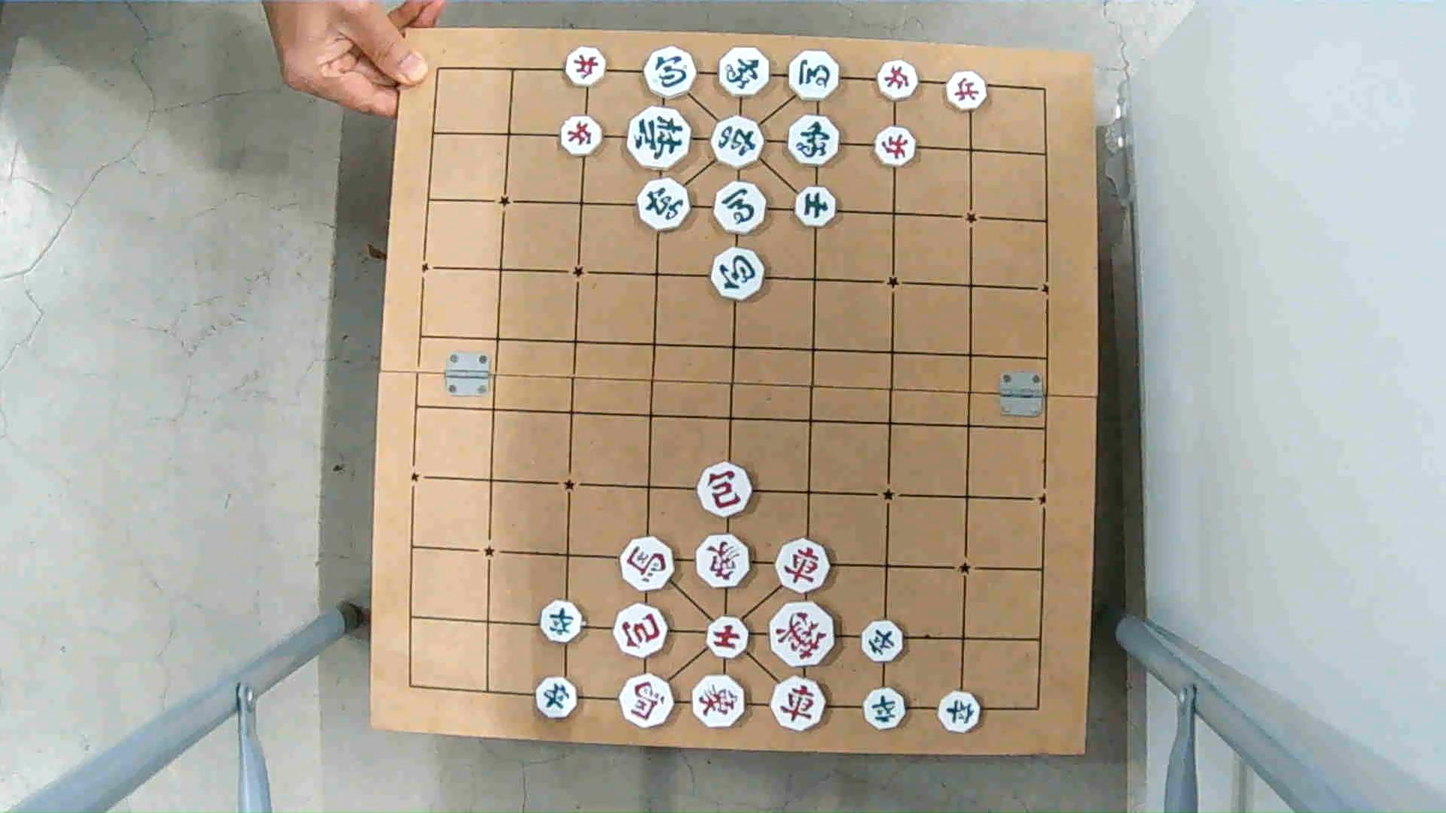cha_green: (640, 178, 693, 230), (709, 118, 764, 168)
cha_red: (773, 544, 830, 594), (772, 681, 829, 731)
jol_green: (532, 675, 579, 722), (540, 600, 584, 642), (935, 690, 981, 730), (863, 690, 908, 730), (861, 621, 905, 661)
jol_red: (560, 113, 603, 156), (563, 47, 606, 87), (874, 60, 917, 99), (874, 129, 919, 165), (946, 74, 988, 110)
ma_green: (713, 181, 768, 233), (788, 53, 842, 101)
ma_red: (618, 674, 675, 726), (623, 541, 681, 592)
po_green: (642, 44, 697, 98), (709, 250, 765, 300)
po_red: (695, 462, 753, 512), (612, 607, 667, 656)
sa_green: (794, 186, 838, 225)
sa_red: (706, 617, 752, 657)
sang_green: (789, 113, 838, 166), (718, 48, 769, 98)
sang_red: (688, 678, 748, 729), (696, 537, 753, 589)
wang_green: (624, 109, 691, 169)
wang_red: (770, 604, 841, 665)
